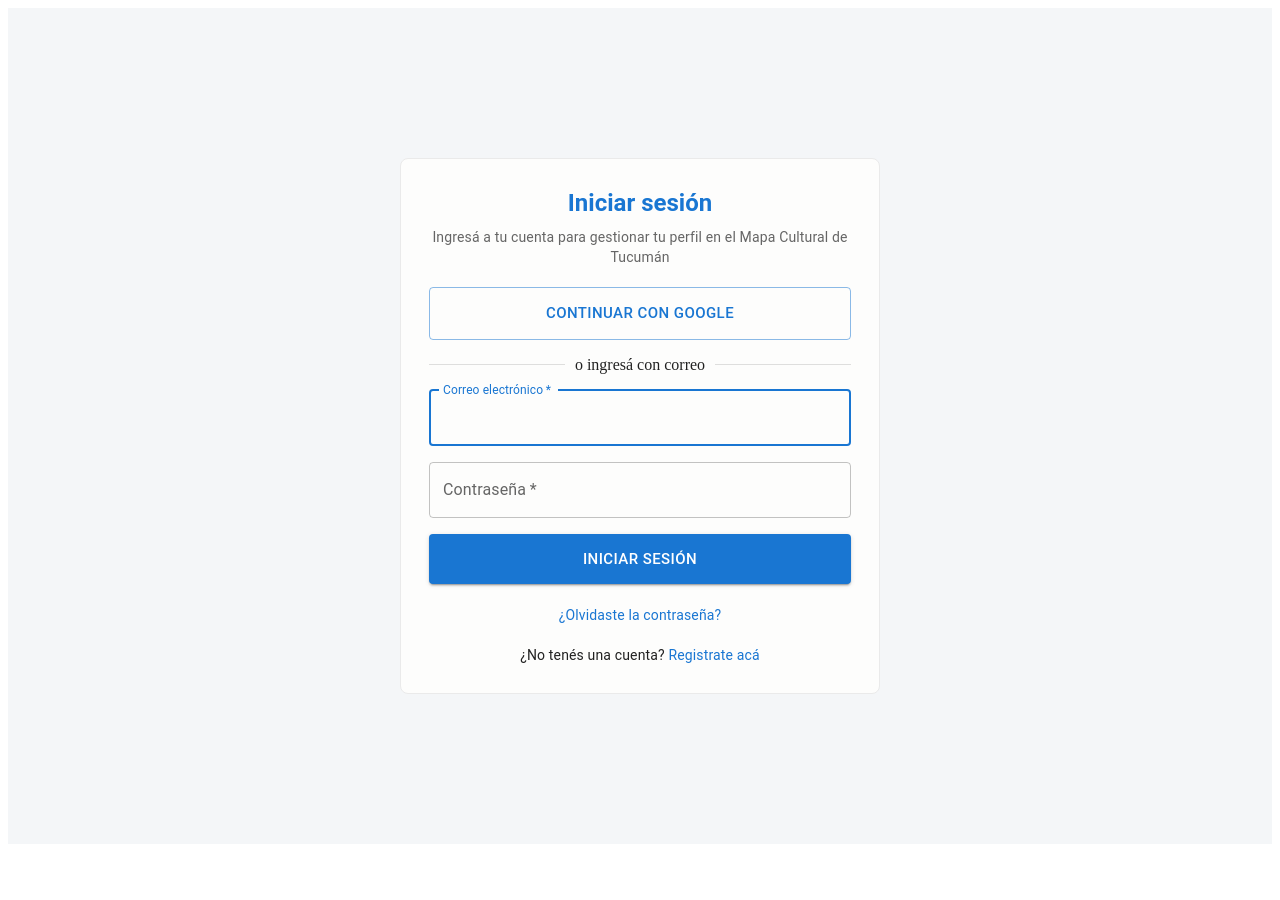
Test: LoginPage - Diálogo de Recuperación de Contraseña › abre el diálogo de recuperación de contraseña al hacer clic en el enlace
The image size is (1280, 900).
Click the button "¿Olvidaste la contraseña?" at (640, 615), box [559,605,721,625]
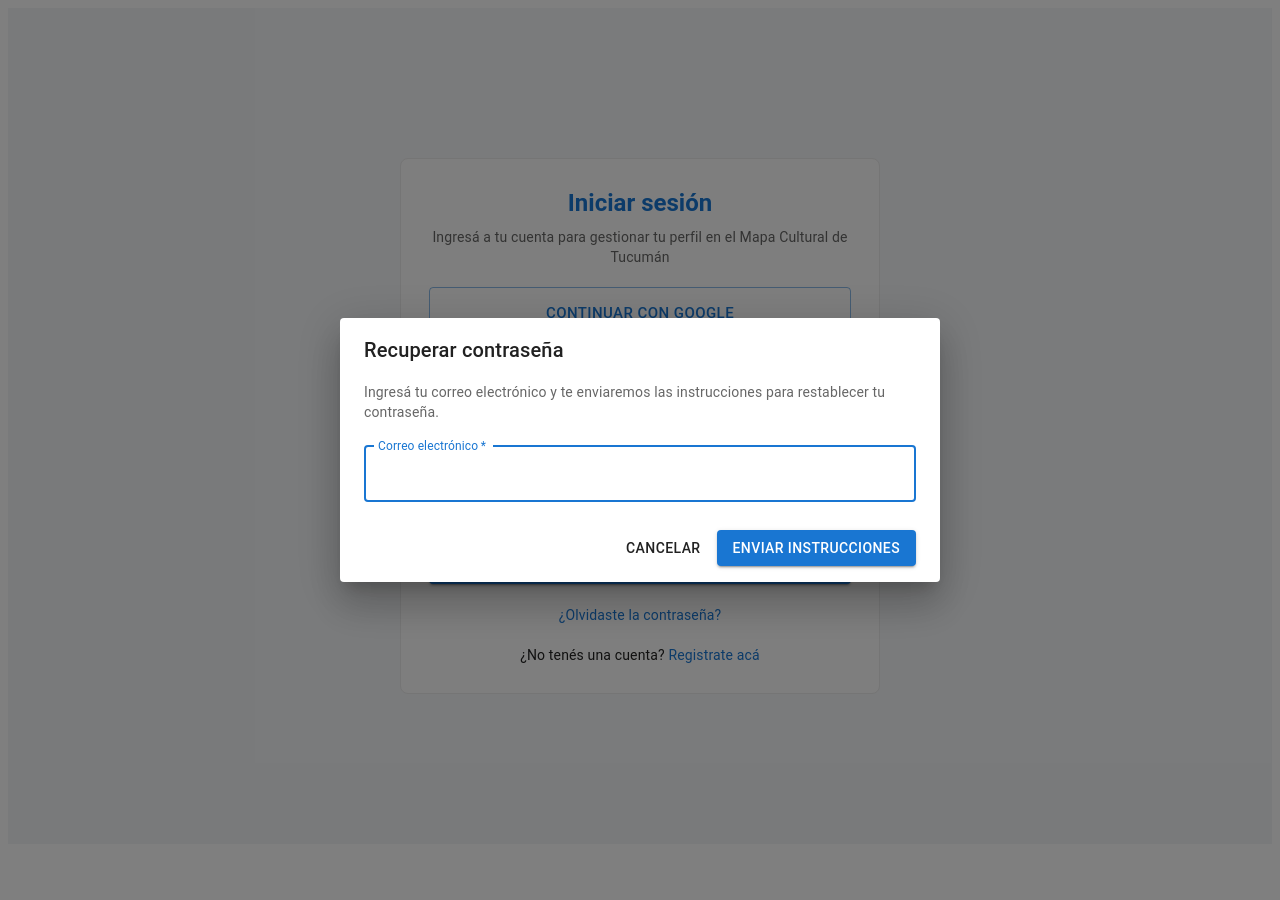
Check: the heading "Recuperar contraseña" is shown, box [364,338,564,362]
Check: the text "Ingresá tu correo electrónico y te enviaremos las instrucciones" is shown, box [364,384,885,420]
